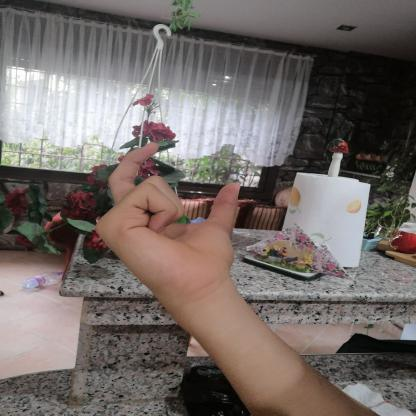NOON: (76, 132, 258, 314)
